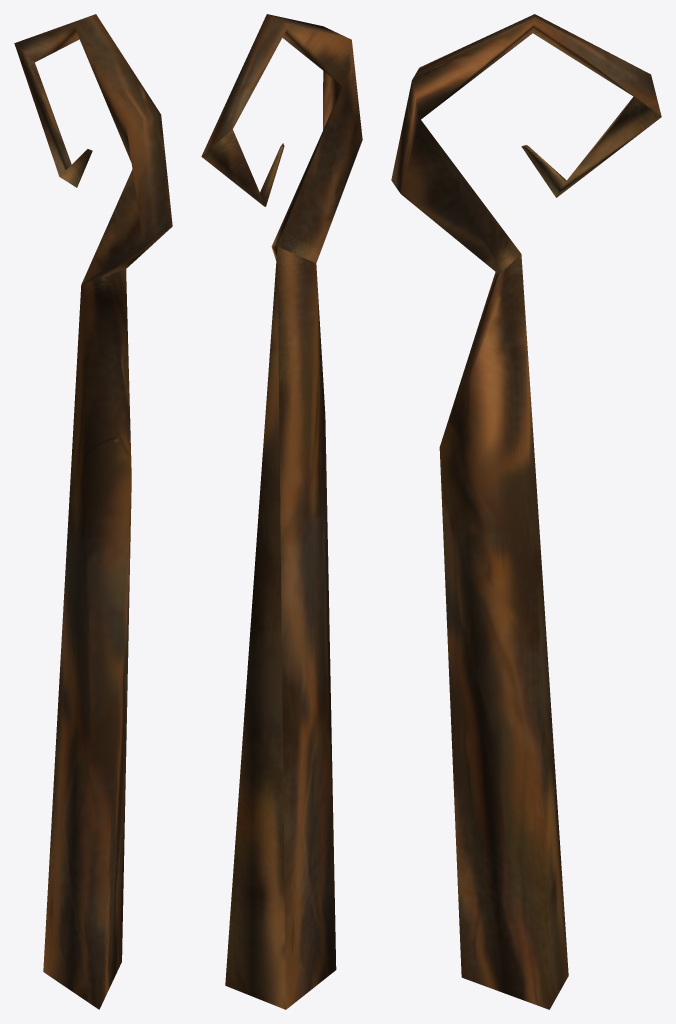
File: PosteLuzKambin.fbx
3 renders of one model, left to right at view 1: azimuth 30°, elevation 25°; view 2: azimuth 150°, elevation 25°; view 3: azimuth 270°, elevation 25°, orthographic.
Visible parts, largest first — view 1: PosteKambin; view 2: PosteKambin; view 3: PosteKambin.
Boxes of the visible parts, <box> form: PosteKambin: <box>14,14,172,1009</box>; PosteKambin: <box>201,14,362,1009</box>; PosteKambin: <box>391,14,661,1009</box>.
Size of the model in its own units: 21.2 by 281 by 70.77.
